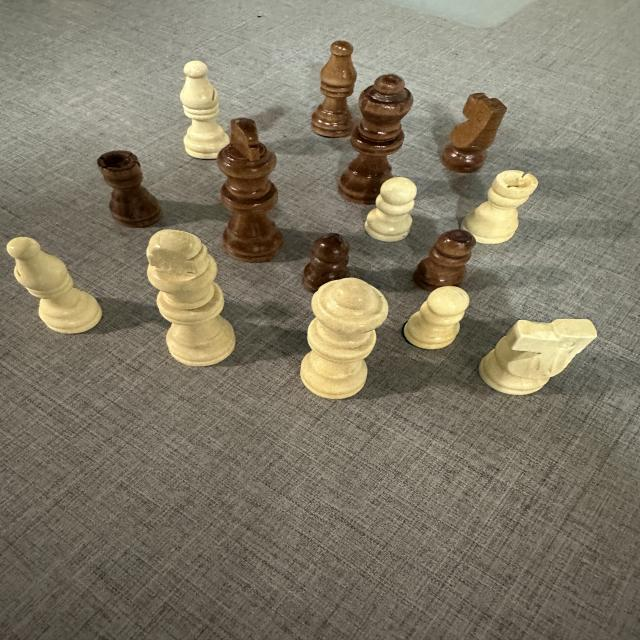Black-Bishop: (310, 41, 354, 138)
Black-King: (217, 117, 283, 263)
Black-Knight: (441, 91, 507, 172)
Black-Pawn: (414, 229, 476, 291), (303, 232, 349, 296)
Black-Queen: (338, 73, 414, 204)
Black-Rook: (98, 149, 162, 229)
White-Bishop: (7, 236, 104, 336), (181, 60, 230, 160)
White-King: (148, 229, 235, 367)
White-Knight: (478, 317, 600, 397)
White-Pawn: (404, 286, 470, 349), (366, 177, 417, 241)
White-Queen: (299, 277, 389, 398)
White-Rook: (460, 170, 538, 243)
